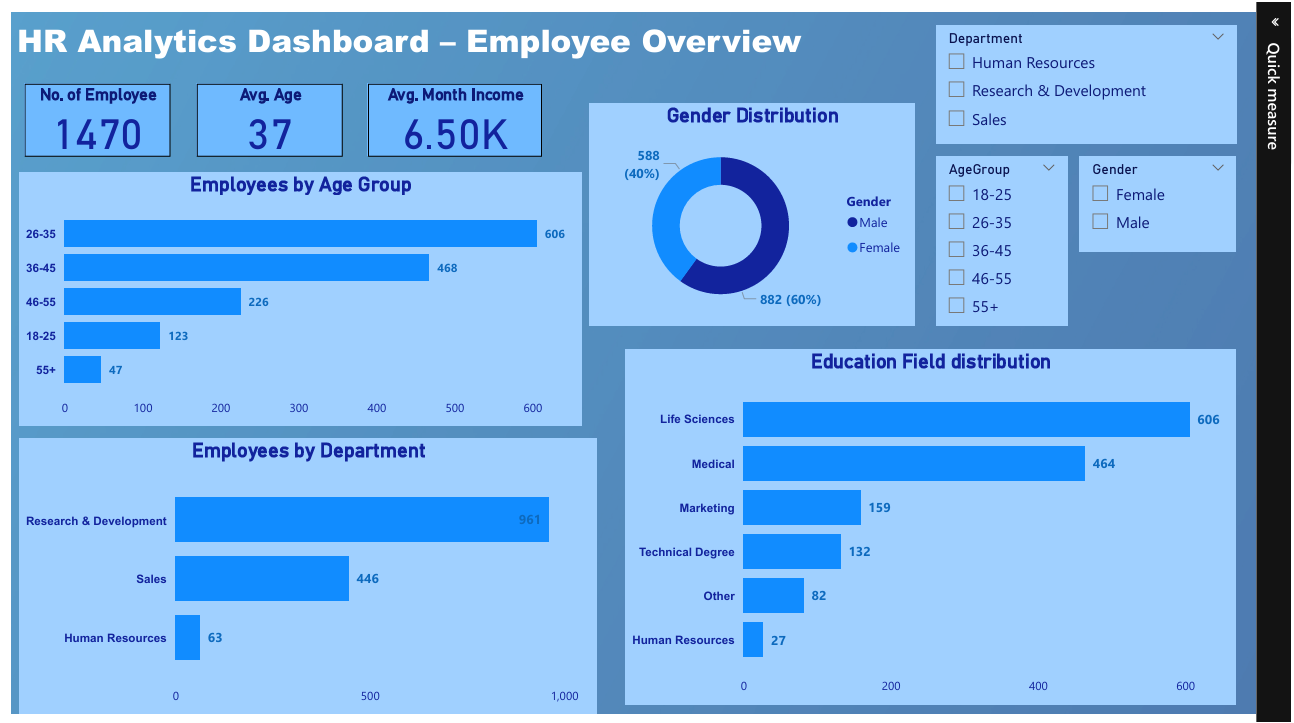

The page's visual inventory and layout, read from the dashboard file:
{"tool":"powerbi","page":{"name":"Page 1","canvas":[1280,720],"ordinal":0},"visuals":[{"type":"textbox","box":[0,0,819.8,56.9],"z":0},{"type":"card","title":"No. of Employee","fields":{"Values":["Count(HR_Analytics.EmpID)"]},"box":[13,73.2,149.6,74.8],"z":1000},{"type":"card","title":"Avg. Age","fields":{"Values":["Avg(HR_Analytics.Age)"]},"box":[190.3,73.2,149.6,74.8],"z":2000},{"type":"card","title":"Avg. Month Income","fields":{"Values":["Avg(HR_Analytics.MonthlyIncome)"]},"box":[366,73.2,178.9,74.8],"z":3000},{"type":"barChart","title":"Employees by Department","fields":{"Y":["Count(HR_Analytics.EmpID)"],"Category":["HR_Analytics.Department"]},"box":[8.1,437.5,593.7,283],"z":4000},{"type":"donutChart","title":"Gender Distribution","fields":{"Y":["Count(HR_Analytics.EmpID)"],"Category":["HR_Analytics.Gender"]},"box":[593.7,92.7,335.1,229.3],"z":5000},{"type":"barChart","title":"Employees by Age Group","fields":{"Y":["Count(HR_Analytics.EmpID)"],"Category":["HR_Analytics.AgeGroup"]},"box":[8.1,164.3,577.4,260.2],"z":6000},{"type":"barChart","title":"Education Field distribution","fields":{"Category":["HR_Analytics.EducationField"],"Y":["Count(HR_Analytics.EmpID)"]},"box":[631.1,346.5,627.8,364.3],"z":7000},{"type":"slicer","fields":{"Values":["HR_Analytics.Department"]},"box":[949.9,13,309,122],"z":8000},{"type":"slicer","fields":{"Values":["HR_Analytics.Gender"]},"box":[1097.9,148,161,97.6],"z":9000},{"type":"slicer","fields":{"Values":["HR_Analytics.AgeGroup"]},"box":[949.9,148,135,174],"z":10000}]}

Visuals, with their boxes on the page's 1280x720 design canvas (x1, y1, x2, y2). These are canvas units, not pixel positions in the 1294x723 screenshot, which may show the page scaled, cropped or inside an application window:
textbox: {"x1": 0, "y1": 0, "x2": 820, "y2": 57}
"No. of Employee" card: {"x1": 13, "y1": 73, "x2": 163, "y2": 148}
"Avg. Age" card: {"x1": 190, "y1": 73, "x2": 340, "y2": 148}
"Avg. Month Income" card: {"x1": 366, "y1": 73, "x2": 545, "y2": 148}
"Employees by Department" barChart: {"x1": 8, "y1": 438, "x2": 602, "y2": 720}
"Gender Distribution" donutChart: {"x1": 594, "y1": 93, "x2": 929, "y2": 322}
"Employees by Age Group" barChart: {"x1": 8, "y1": 164, "x2": 586, "y2": 424}
"Education Field distribution" barChart: {"x1": 631, "y1": 346, "x2": 1259, "y2": 711}
slicer - HR_Analytics.Department: {"x1": 950, "y1": 13, "x2": 1259, "y2": 135}
slicer - HR_Analytics.Gender: {"x1": 1098, "y1": 148, "x2": 1259, "y2": 246}
slicer - HR_Analytics.AgeGroup: {"x1": 950, "y1": 148, "x2": 1085, "y2": 322}
